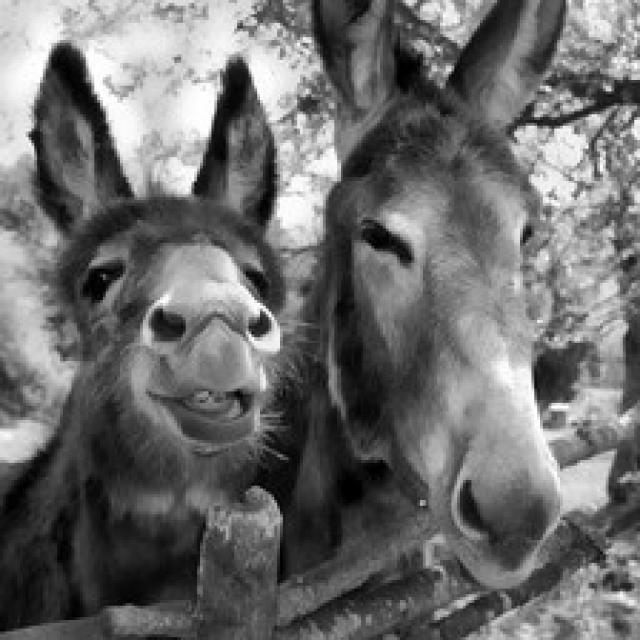Donkey: (257, 0, 569, 637), (0, 37, 289, 637)
